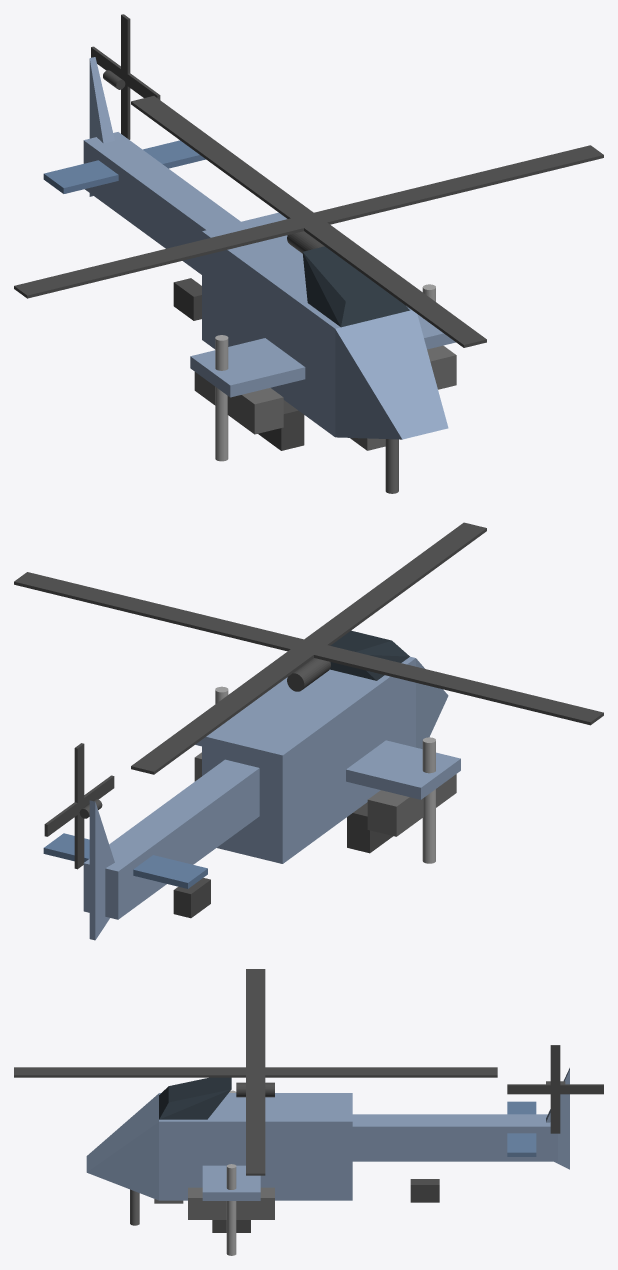
The model's file is helicopter.glb.
The picture shows the model from 3 angles, top to bottom: view 1: azimuth 30°, elevation 25°; view 2: azimuth 150°, elevation 25°; view 3: azimuth 270°, elevation 25°; orthographic projection. The views are drawn at different scales.
Visible parts, largest first — view 1: world; view 2: world; view 3: world.
Part boxes in pixels (bbox=[...]): world: bbox=[14, 14, 603, 493]; world: bbox=[14, 522, 603, 940]; world: bbox=[14, 969, 603, 1255].
Size of the model in its own units: 10 by 4.25 by 12.2.
